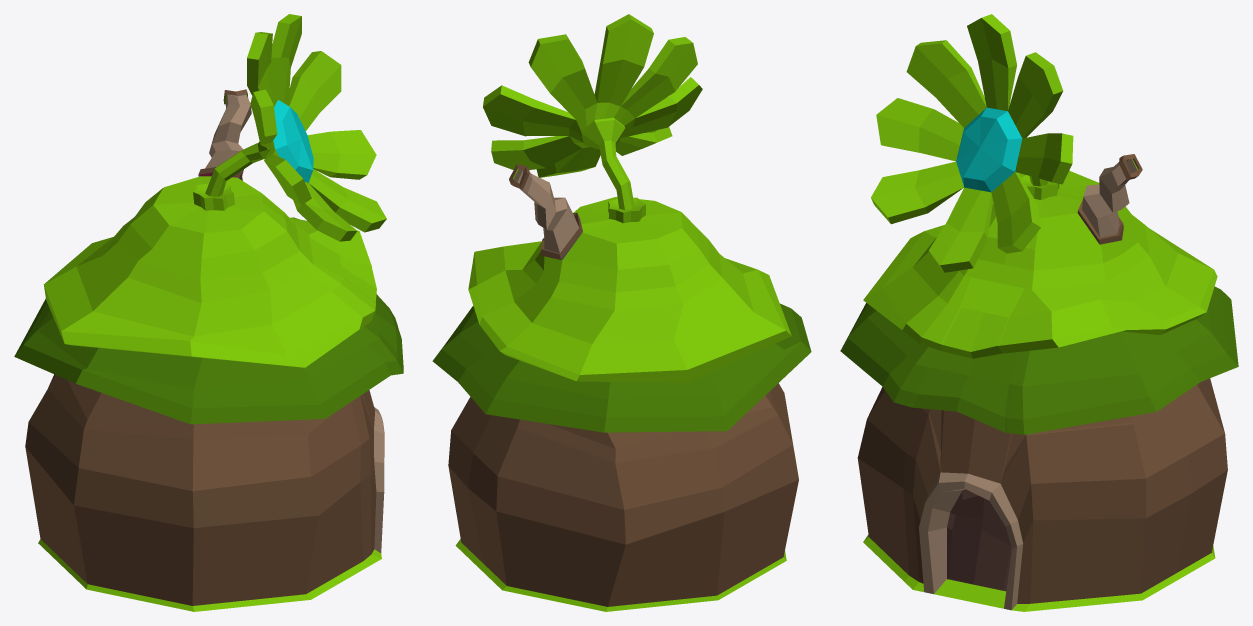
The model's file is NPCHouse_03.fbx.
3 views of the same model, side by side, from view 1: azimuth 30°, elevation 25°; view 2: azimuth 150°, elevation 25°; view 3: azimuth 270°, elevation 25° (orthographic). The views are drawn at different scales.
Parts seen in each view (by area): view 1: NPCHouse2; view 2: NPCHouse2; view 3: NPCHouse2.
Part boxes in pixels (bbox=[...]): NPCHouse2: bbox=[14, 14, 403, 611]; NPCHouse2: bbox=[432, 14, 811, 611]; NPCHouse2: bbox=[840, 14, 1238, 611].
Size of the model in its own units: 16.94 by 24.79 by 16.83.
